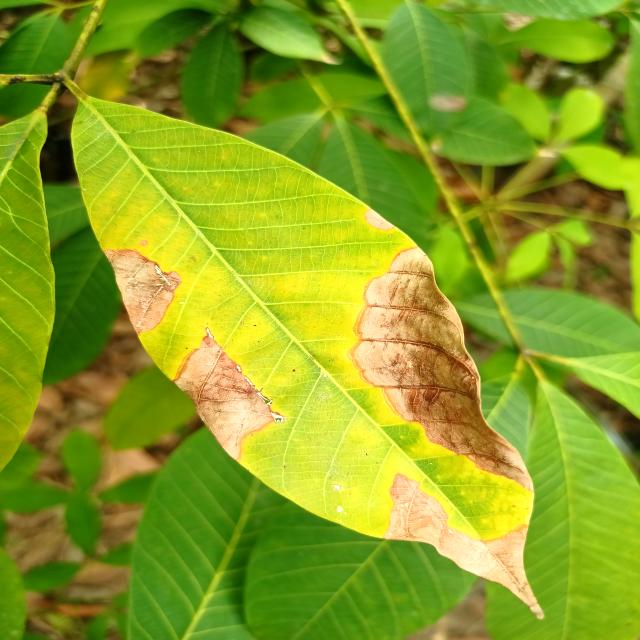Colletotrichum: (240, 321, 244, 324), (512, 504, 515, 508), (389, 234, 392, 237), (293, 369, 295, 372), (338, 249, 340, 251), (408, 280, 410, 282), (420, 318, 422, 320), (242, 355, 244, 356)
Leaf-Blight: (348, 245, 556, 493), (383, 473, 545, 619), (172, 327, 288, 462), (101, 248, 182, 336), (364, 209, 395, 230)
